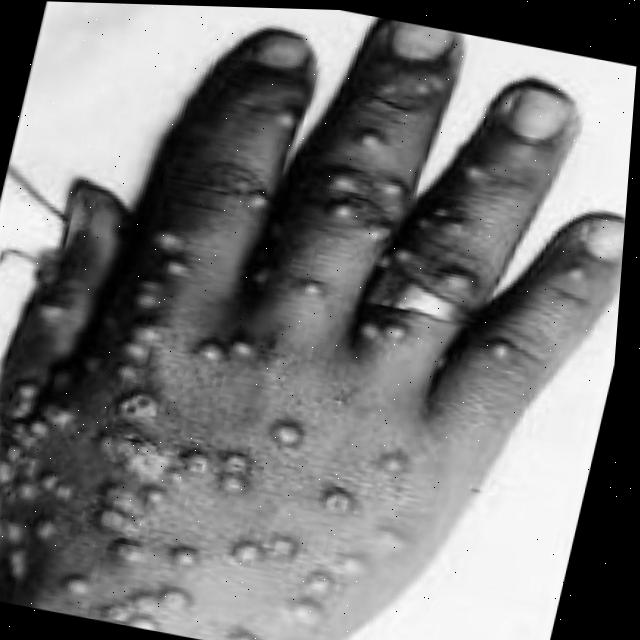Eczema: (0, 76, 555, 640)
